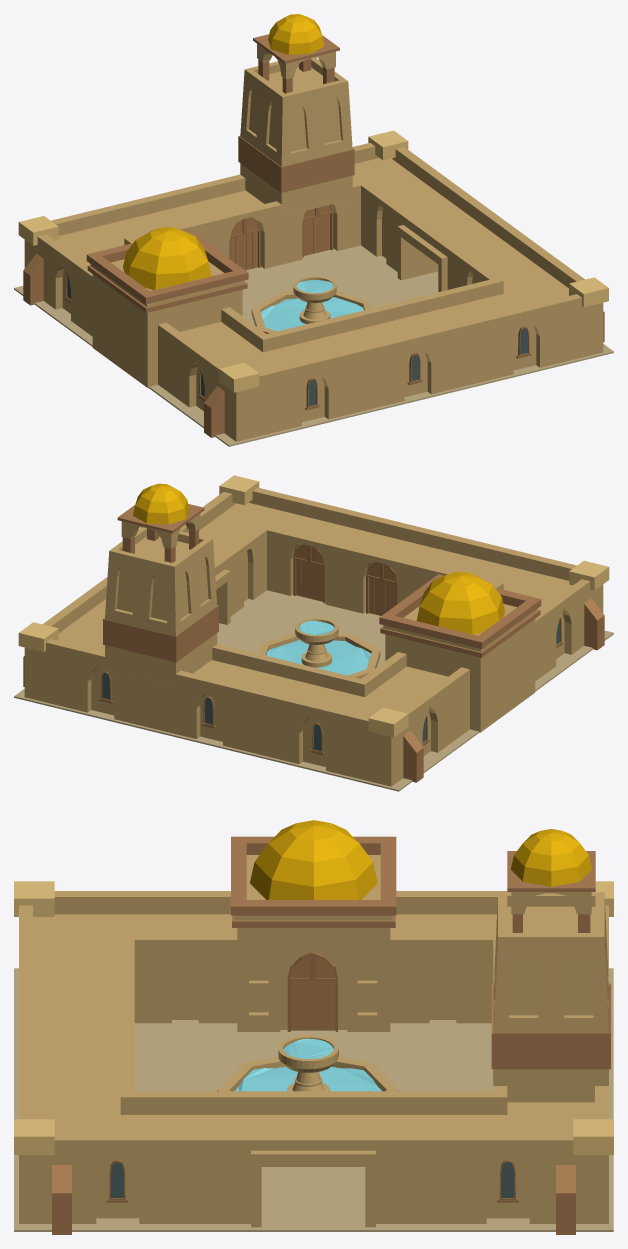
Rendered from SL_Square.fbx.
The picture shows the model from 3 angles, top to bottom: view 1: azimuth 30°, elevation 25°; view 2: azimuth 150°, elevation 25°; view 3: azimuth 270°, elevation 25°; orthographic projection. The views are drawn at different scales.
Visible parts, largest first — view 1: SL_Square; view 2: SL_Square; view 3: SL_Square.
Part boxes in pixels (x1,y1,x2,y2): SL_Square: (14,14,613,446); SL_Square: (14,475,613,791); SL_Square: (14,820,613,1234).
Bounding box in the file's own units: 2541 × 1390 × 2403.
